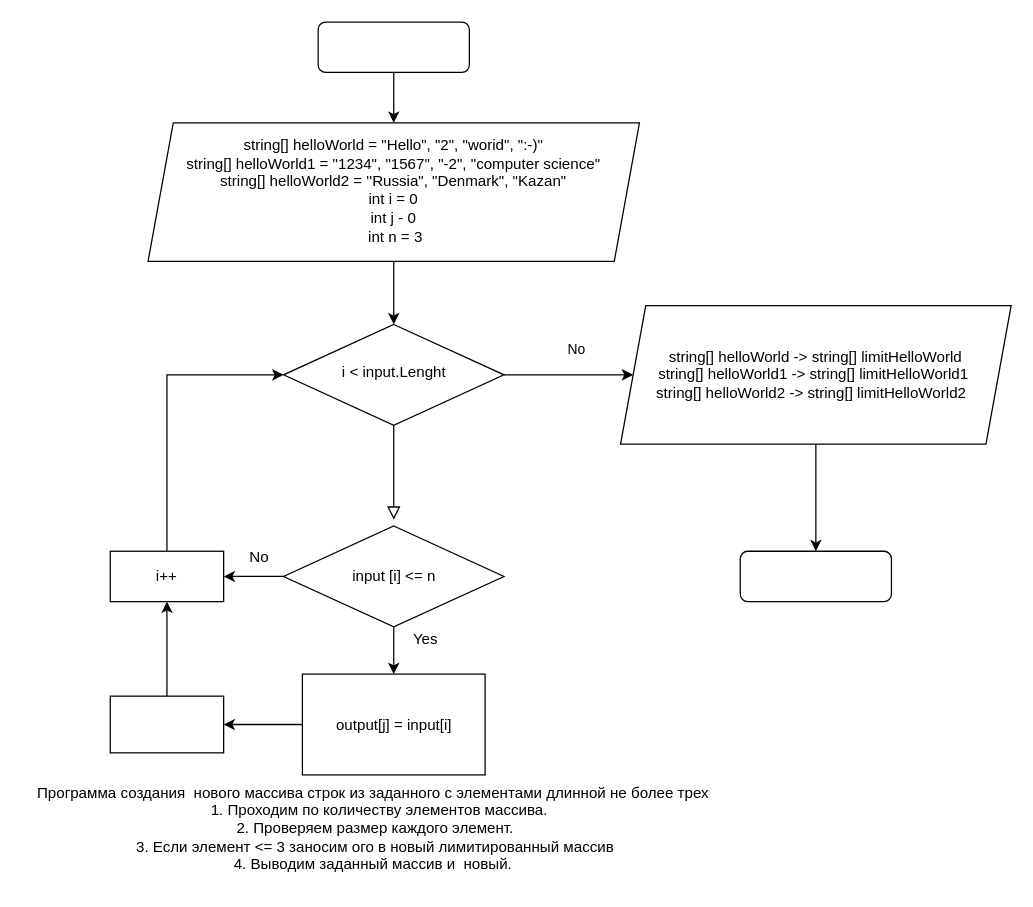
The diagram is 1033 pixels wide and 907 high, and some of its shapes have lost their labels. The shapes that lost their labels are listed below. From the top down, each one's centre as x and y in pixels, then its label:
At point (393, 46): "START".
At point (815, 576): "END".
At point (166, 724): "j++".
